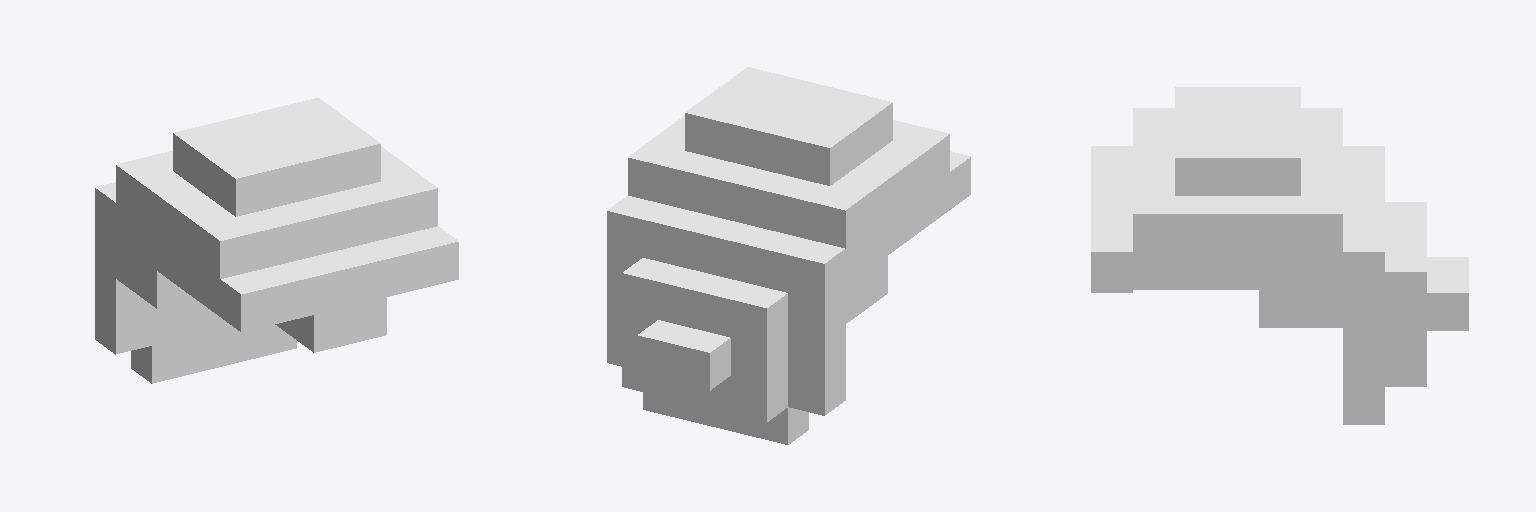
Rendered from grandma03-10.obj.
3 renders of one model, left to right at view 1: azimuth 30°, elevation 25°; view 2: azimuth 150°, elevation 25°; view 3: azimuth 270°, elevation 25°, orthographic.
Parts seen in each view (by area): view 1: grandma03-10; view 2: grandma03-10; view 3: grandma03-10.
Part boxes in pixels (left/top/right/bottom): grandma03-10: left=95, top=98, right=458, bottom=383; grandma03-10: left=607, top=67, right=970, bottom=444; grandma03-10: left=1091, top=87, right=1468, bottom=424.
Bounding box in the file's own units: 6 × 7 × 9.